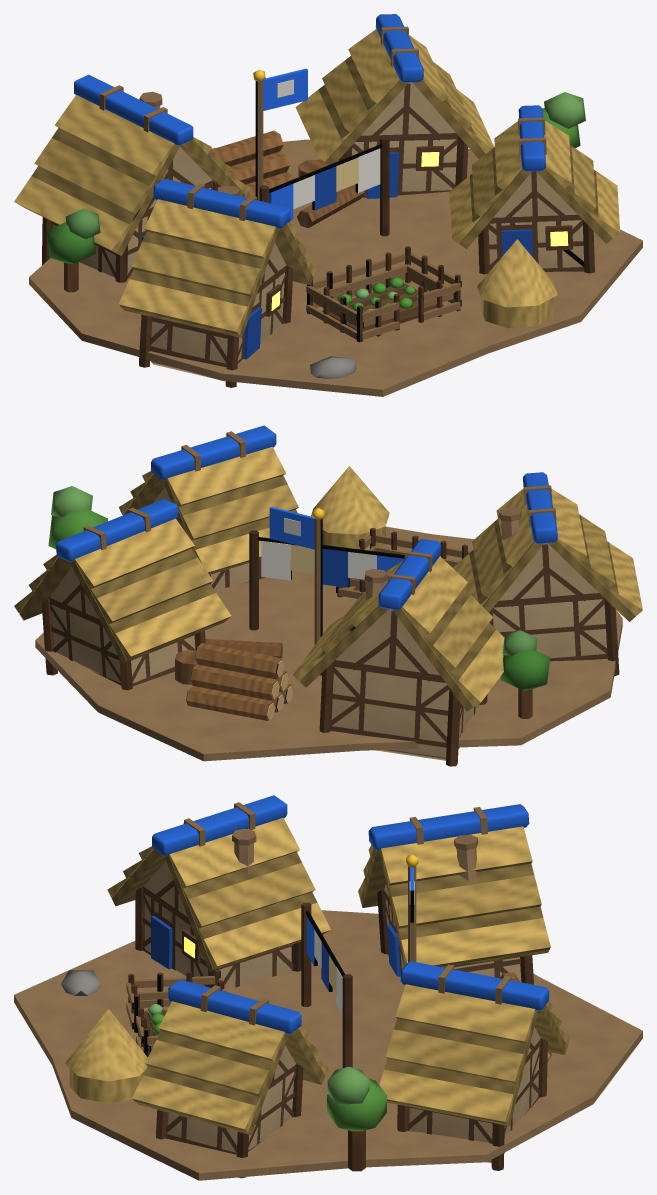
Rendered from city_dl1_blue.glb.
3 renders of one model, top to bottom at view 1: azimuth 30°, elevation 25°; view 2: azimuth 150°, elevation 25°; view 3: azimuth 270°, elevation 25°, orthographic. The views are drawn at different scales.
Parts seen in each view (by area): view 1: city_dl1_blue; view 2: city_dl1_blue; view 3: city_dl1_blue.
Part boxes in pixels (box(x1,y1,x2,y2)): city_dl1_blue: box(14, 14, 642, 396); city_dl1_blue: box(14, 425, 642, 766); city_dl1_blue: box(14, 795, 642, 1180).
Bounding box in the file's own units: 1.39 × 0.4779 × 1.37.
Materials: 2 (1 with a texture image).
